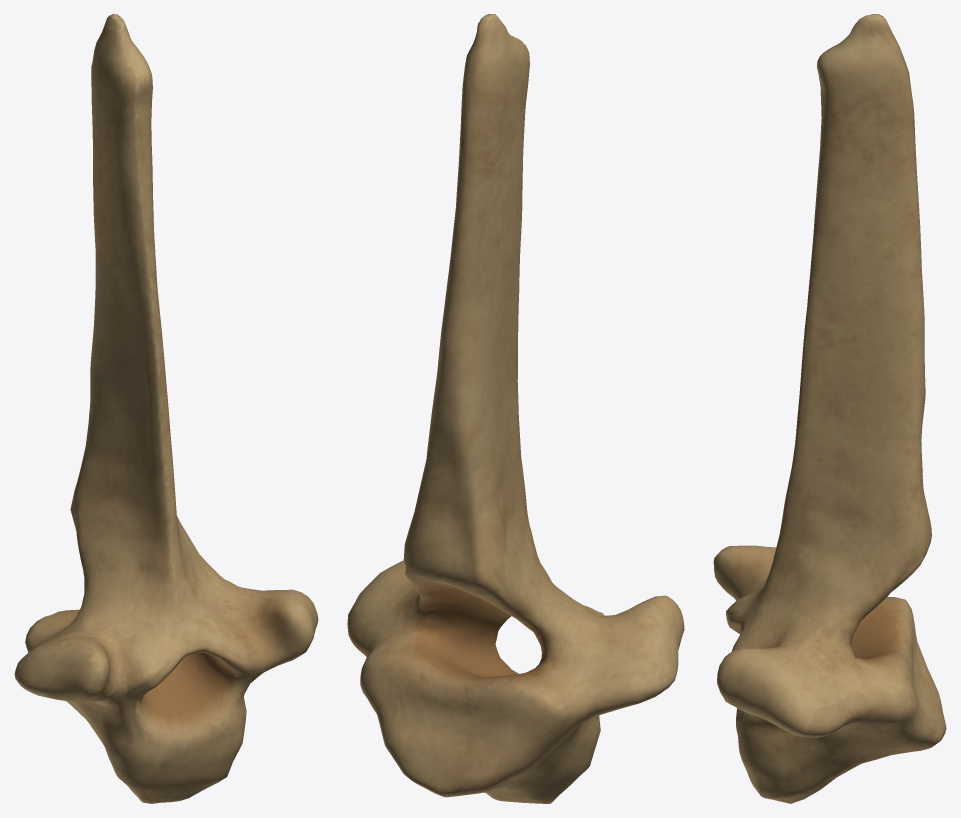
3 renders of one model, left to right at view 1: azimuth 30°, elevation 25°; view 2: azimuth 150°, elevation 25°; view 3: azimuth 270°, elevation 25°, orthographic. The views are drawn at different scales.
Visible parts, largest first — view 1: ZBrush_defualt_group.011; view 2: ZBrush_defualt_group.011; view 3: ZBrush_defualt_group.011.
Part boxes in pixels (x1,y1,x2,y2): ZBrush_defualt_group.011: (14,14,318,803); ZBrush_defualt_group.011: (347,14,684,803); ZBrush_defualt_group.011: (713,14,946,803).
Size of the model in its own units: 56.14 by 139 by 37.72.
1 material, 1 textured.
